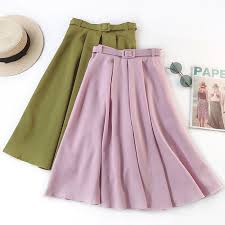C_skirt: (38, 42, 225, 216)
